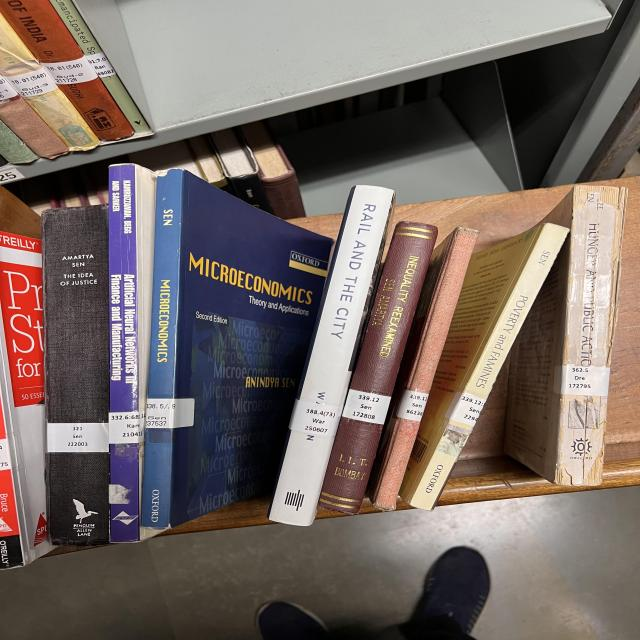Book: (142, 170, 332, 529), (400, 224, 568, 510), (268, 185, 395, 526), (505, 185, 627, 486), (318, 222, 437, 514), (368, 228, 478, 511), (108, 164, 157, 542), (42, 205, 110, 422), (50, 0, 150, 136), (0, 14, 98, 151), (0, 78, 68, 159), (0, 121, 38, 164)
Label: (288, 400, 342, 436), (47, 422, 108, 452), (553, 365, 610, 396), (342, 389, 392, 424), (42, 56, 98, 85), (145, 399, 195, 429), (7, 69, 58, 98), (445, 392, 487, 426), (108, 411, 145, 444), (395, 390, 428, 421), (85, 52, 117, 78), (0, 75, 18, 104)
